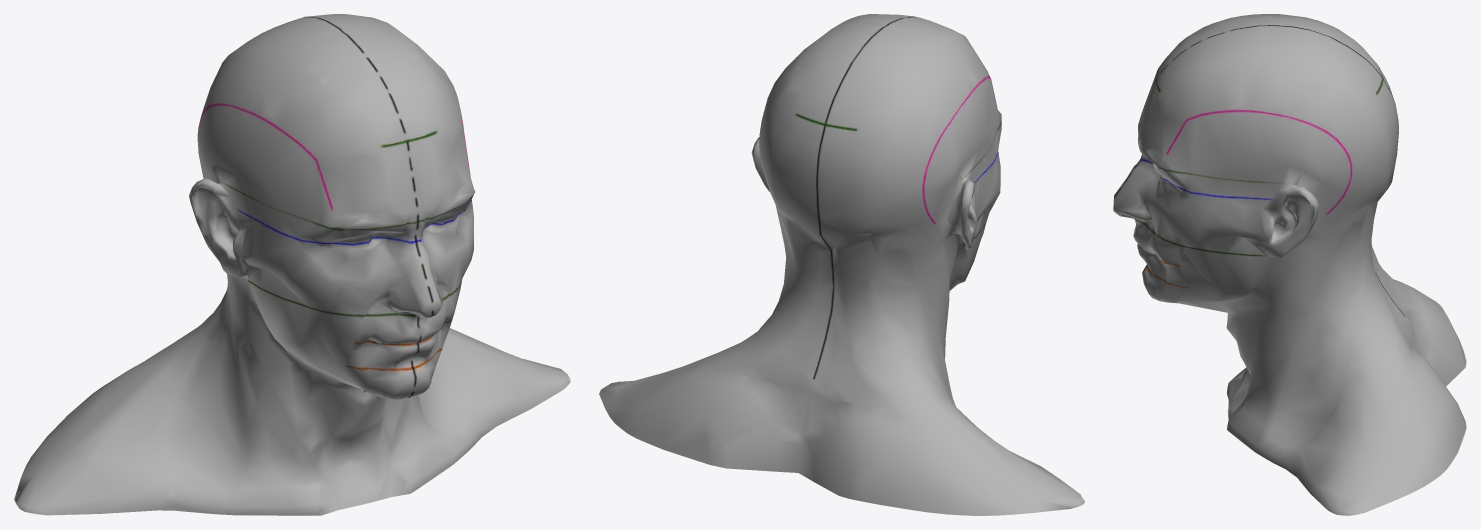
Rendered from 头像_带标注_opt.glb.
The picture shows the model from 3 angles, left to right: view 1: azimuth 30°, elevation 25°; view 2: azimuth 150°, elevation 25°; view 3: azimuth 270°, elevation 25°; orthographic projection. The views are drawn at different scales.
Parts seen in each view (by area): view 1: Helmet_4_LowPoGood; view 2: Helmet_4_LowPoGood; view 3: Helmet_4_LowPoGood.
Boxes of the visible parts, x1=… form: Helmet_4_LowPoGood: x1=14, y1=14, x2=570, y2=515; Helmet_4_LowPoGood: x1=599, y1=14, x2=1084, y2=515; Helmet_4_LowPoGood: x1=1113, y1=14, x2=1466, y2=515.
Bounding box in the file's own units: 0.5029 × 0.4 × 0.3316.
Materials: 2 (1 with a texture image).
